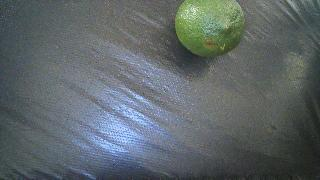DESECHO: (175, 0, 245, 57)
